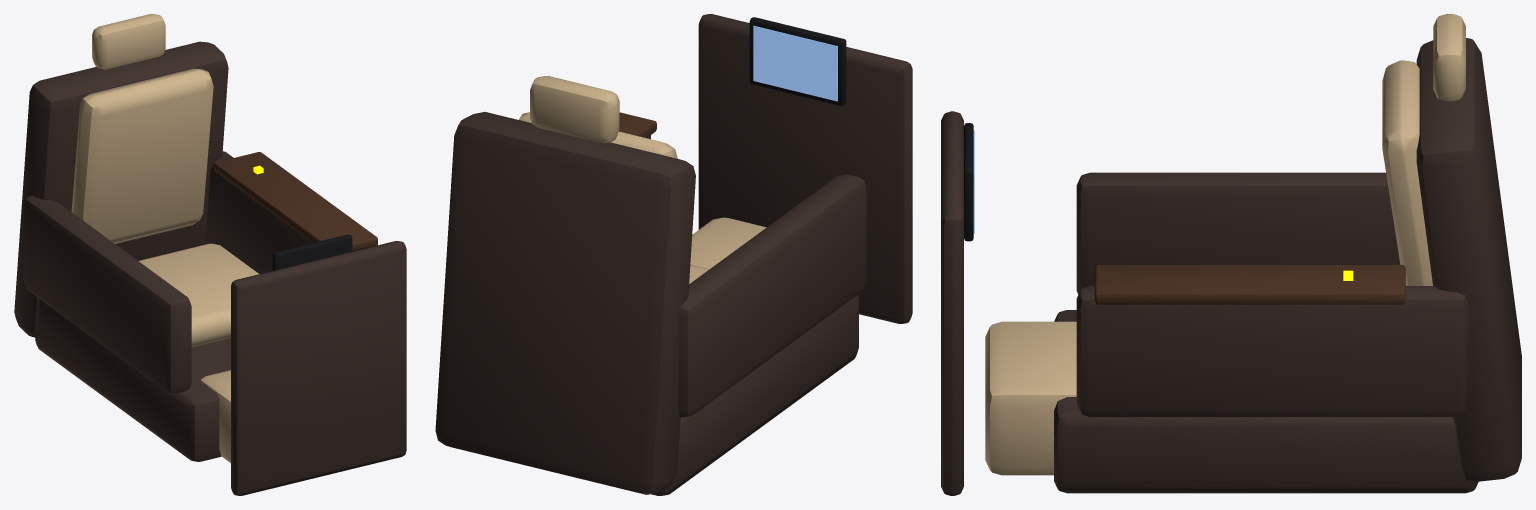
Rendered from seat_first.glb.
3 renders of one model, left to right at view 1: azimuth 30°, elevation 25°; view 2: azimuth 150°, elevation 25°; view 3: azimuth 270°, elevation 25°, orthographic. The views are drawn at different scales.
Parts seen in each view (by area): view 1: shell, cushion, table, Cube; view 2: shell, cushion, screen, Cube, table; view 3: shell, cushion, table, Cube.
Boxes of the visible parts, x1,y1,x2,y2 form: shell: (14,41,406,495); cushion: (71,14,259,462); table: (214,152,377,251); Cube: (272,234,352,270); shell: (435,14,912,495); cushion: (519,76,766,283); screen: (753,25,837,101); Cube: (749,17,846,106); table: (619,112,656,137); shell: (941,38,1521,495); cushion: (985,14,1465,475); table: (1094,265,1405,304); Cube: (964,123,973,241).
Size of the model in its own units: 1 by 1.39 by 1.78.
